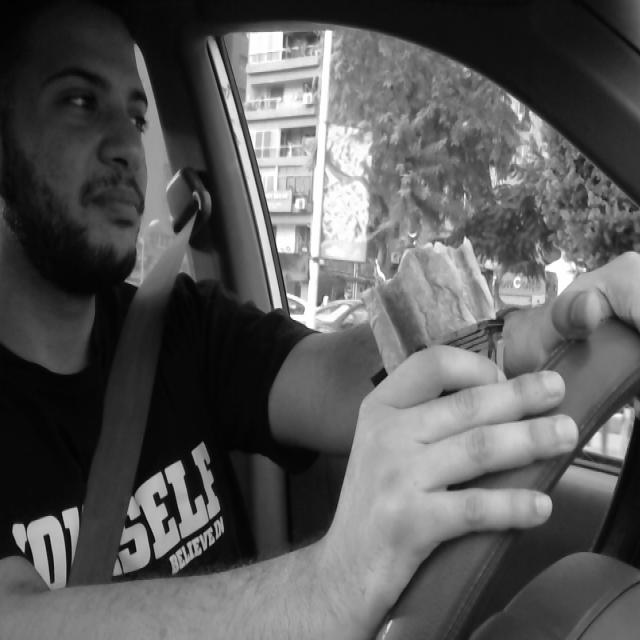eating: (357, 243, 510, 476)
